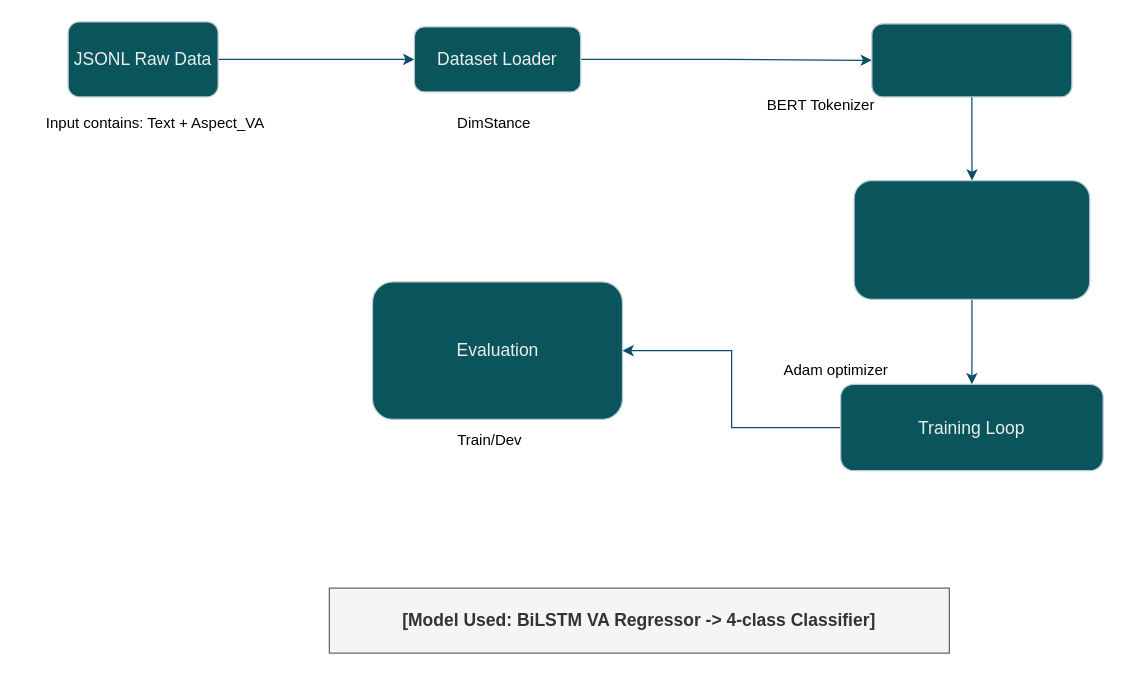
The diagram is 1125 pixels wide and 675 high, and some of its shapes have lost their labels. The shapes that lost their labels are listed below. From the top down, each one's centre as x and y in pixels, then its label:
point 971,59: Tokenizer
point 971,239: BiLSTM Regressor Model
